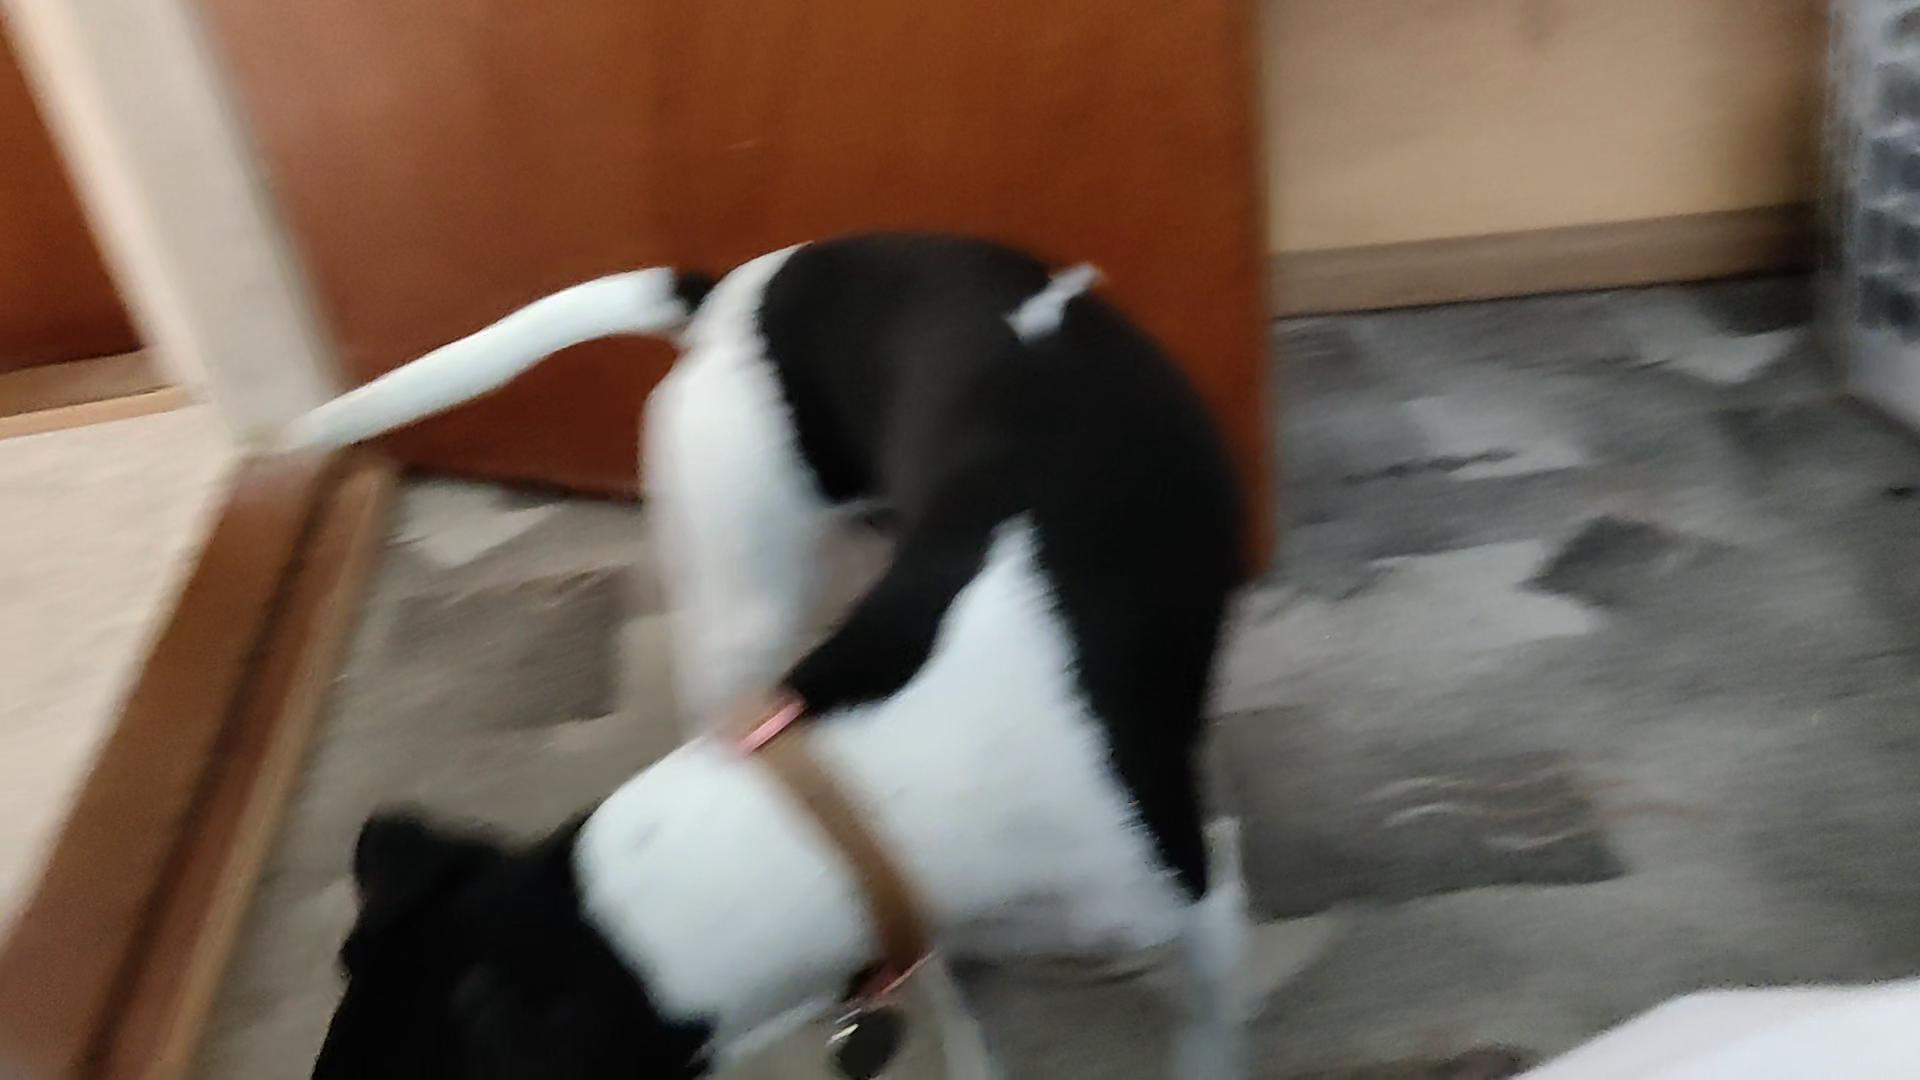Dog: (235, 181, 1284, 1079)
